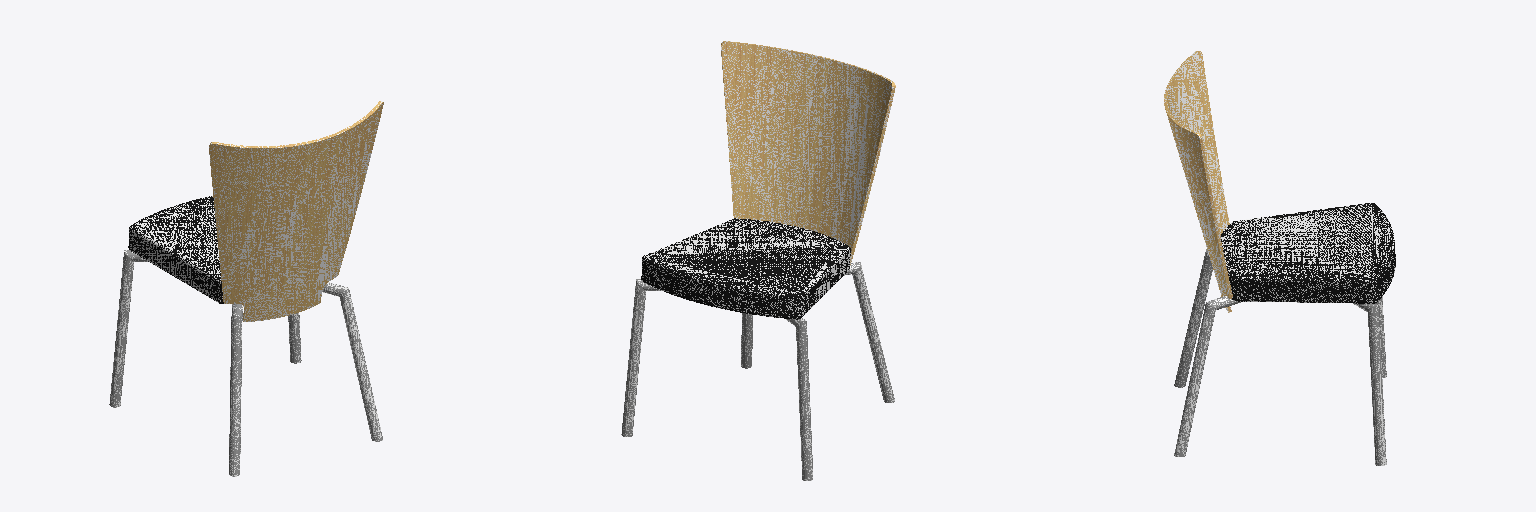
The picture shows the model from 3 angles: view 1: azimuth 30°, elevation 25°; view 2: azimuth 150°, elevation 25°; view 3: azimuth 270°, elevation 25°; orthographic projection.
Visible parts, largest first — view 1: mesh11_mesh11-geometry, mesh1_mesh1-geometry, mesh10_mesh10-geometry, mesh12_mesh12-geometry; view 2: mesh11_mesh11-geometry, mesh1_mesh1-geometry, mesh10_mesh10-geometry, mesh12_mesh12-geometry; view 3: mesh1_mesh1-geometry, mesh11_mesh11-geometry, mesh12_mesh12-geometry, mesh10_mesh10-geometry.
Boxes of the visible parts, x1,y1,x2,y2 form: mesh11_mesh11-geometry: [209, 101, 383, 321]; mesh1_mesh1-geometry: [128, 196, 223, 303]; mesh10_mesh10-geometry: [109, 250, 243, 476]; mesh12_mesh12-geometry: [288, 282, 382, 441]; mesh11_mesh11-geometry: [721, 41, 895, 265]; mesh1_mesh1-geometry: [641, 219, 850, 319]; mesh10_mesh10-geometry: [786, 262, 894, 480]; mesh12_mesh12-geometry: [621, 279, 752, 436]; mesh1_mesh1-geometry: [1221, 203, 1395, 303]; mesh11_mesh11-geometry: [1164, 51, 1232, 312]; mesh12_mesh12-geometry: [1174, 296, 1386, 465]; mesh10_mesh10-geometry: [1174, 249, 1386, 387].
Bounding box in the file's own units: 0.4555 × 0.7497 × 0.4801.
5 materials, 1 textured.